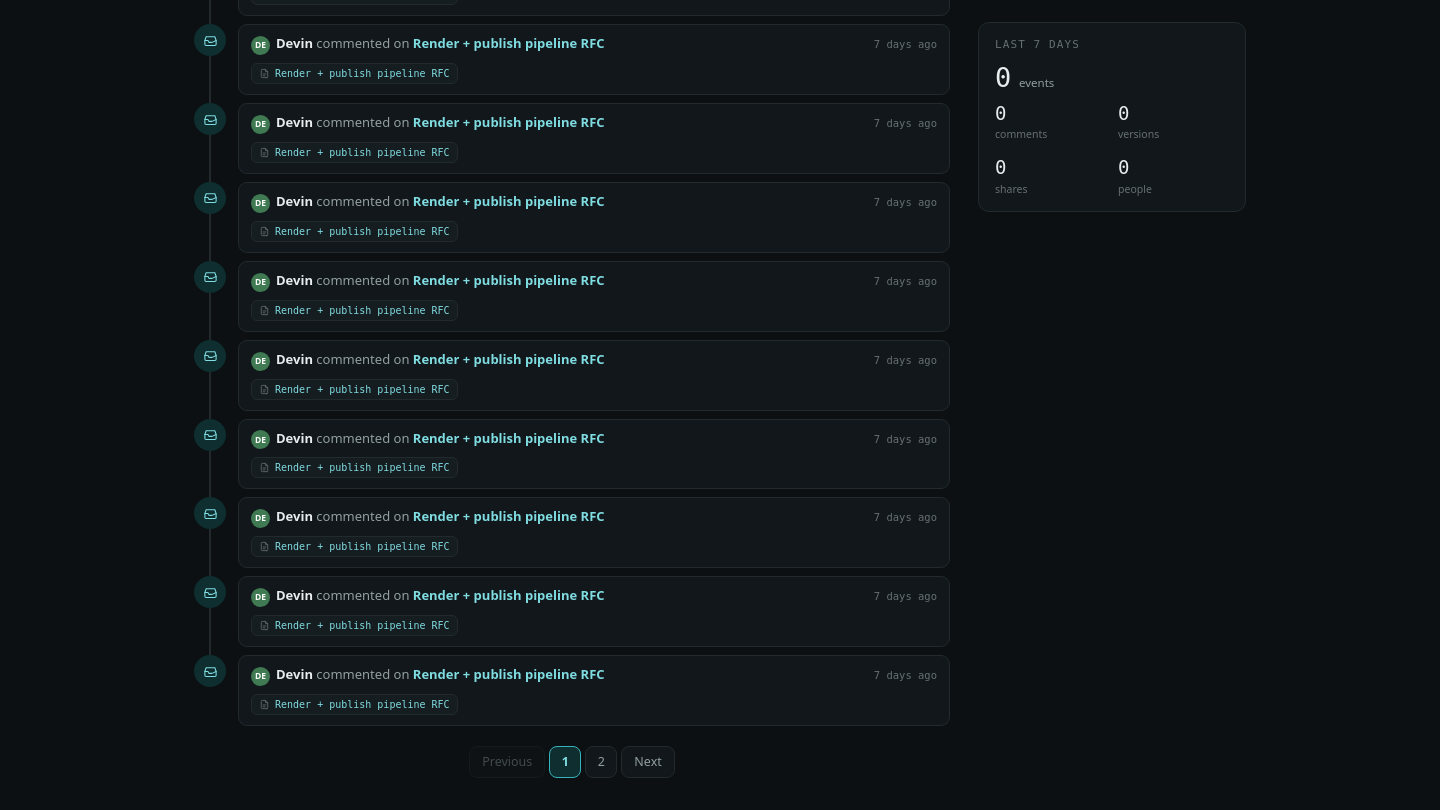
Test: ActivityScreen (workspace-activity S-001) › AS-003: page 1 shows the 20 most-recent; the next page shows the remaining 5 older
(page scrolled)
# Go to page 2 via the shared Pagination control.
Click the button with test id "pagination-next". click: (648, 762)
box: [621, 746, 675, 778]
(page scrolled)
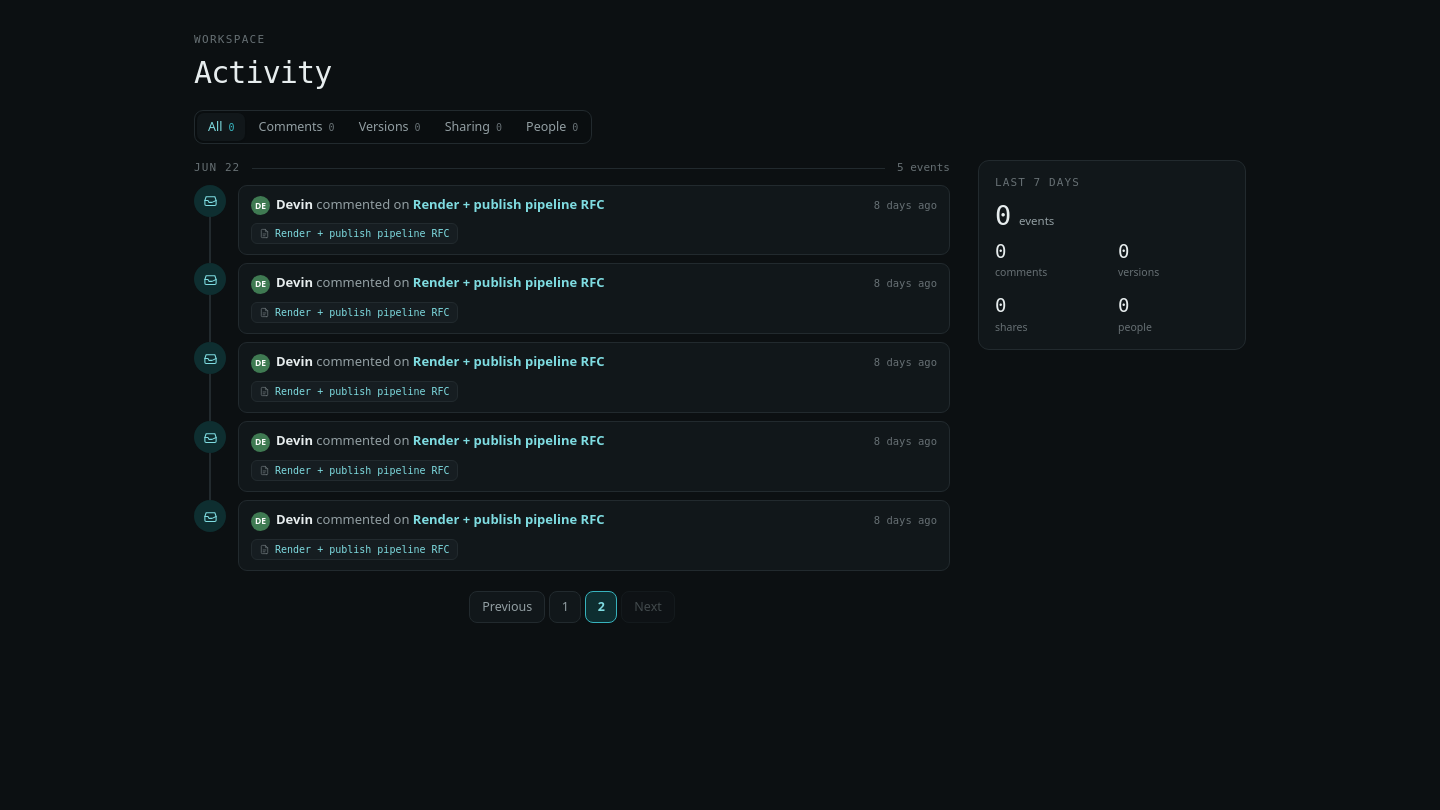
Result: the number of buttons with test id "activity-row" is 5 at [194, 184, 950, 255]; [194, 263, 950, 334]; [194, 342, 950, 413]; [194, 421, 950, 492]; [194, 500, 950, 571]
